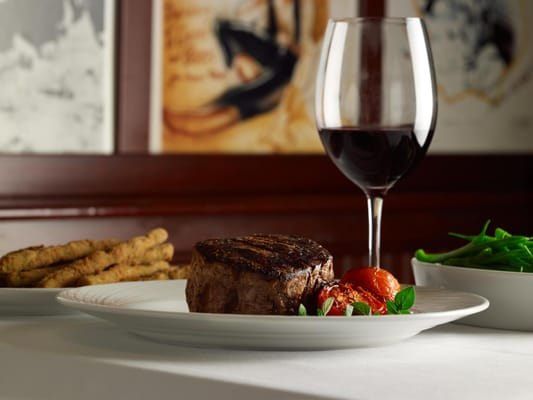curry: (28, 178, 533, 398)
sandwich: (314, 16, 439, 283)
sushi: (185, 233, 337, 316)
